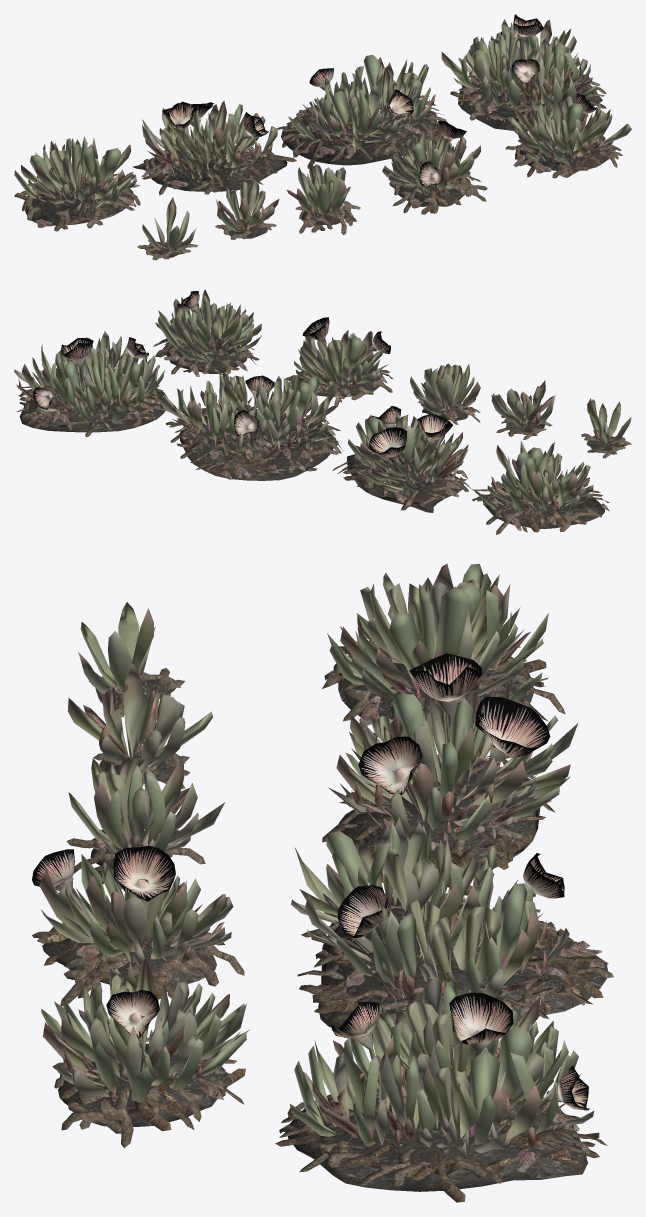
File: cheiridopsis_succulent.glb
3 renders of one model, top to bottom at view 1: azimuth 30°, elevation 25°; view 2: azimuth 150°, elevation 25°; view 3: azimuth 270°, elevation 25°, orthographic. The views are drawn at different scales.
Parts seen in each view (by area): view 1: cheiridopsis_succulent_h_LOD0, cheiridopsis_succulent_i_LOD0, cheiridopsis_succulent_g_LOD0, cheiridopsis_succulent_f_LOD0, cheiridopsis_succulent_e_LOD0, cheiridopsis_succulent_d_LOD0, cheiridopsis_succulent_c_LOD0, cheiridopsis_succulent_b_LOD0, cheiridopsis_succulent_a_LOD0; view 2: cheiridopsis_succulent_h_LOD0, cheiridopsis_succulent_i_LOD0, cheiridopsis_succulent_g_LOD0, cheiridopsis_succulent_f_LOD0, cheiridopsis_succulent_e_LOD0, cheiridopsis_succulent_d_LOD0, cheiridopsis_succulent_c_LOD0, cheiridopsis_succulent_b_LOD0, cheiridopsis_succulent_a_LOD0; view 3: cheiridopsis_succulent_i_LOD0, cheiridopsis_succulent_h_LOD0, cheiridopsis_succulent_g_LOD0, cheiridopsis_succulent_e_LOD0, cheiridopsis_succulent_d_LOD0, cheiridopsis_succulent_f_LOD0, cheiridopsis_succulent_c_LOD0, cheiridopsis_succulent_b_LOD0, cheiridopsis_succulent_a_LOD0.
Boxes of the visible parts, x1,y1,x2,y2 form: cheiridopsis_succulent_h_LOD0: (277, 54, 446, 168); cheiridopsis_succulent_i_LOD0: (441, 14, 606, 131); cheiridopsis_succulent_g_LOD0: (132, 101, 296, 195); cheiridopsis_succulent_f_LOD0: (14, 136, 140, 231); cheiridopsis_succulent_e_LOD0: (505, 94, 631, 178); cheiridopsis_succulent_d_LOD0: (382, 120, 487, 214); cheiridopsis_succulent_c_LOD0: (287, 163, 360, 234); cheiridopsis_succulent_b_LOD0: (215, 180, 279, 240); cheiridopsis_succulent_a_LOD0: (137, 197, 197, 260); cheiridopsis_succulent_h_LOD0: (159, 372, 342, 480); cheiridopsis_succulent_i_LOD0: (14, 331, 170, 437); cheiridopsis_succulent_g_LOD0: (332, 406, 473, 512); cheiridopsis_succulent_f_LOD0: (472, 441, 609, 534); cheiridopsis_succulent_e_LOD0: (153, 289, 261, 376); cheiridopsis_succulent_d_LOD0: (284, 317, 393, 407); cheiridopsis_succulent_c_LOD0: (410, 363, 480, 424); cheiridopsis_succulent_b_LOD0: (491, 380, 555, 439); cheiridopsis_succulent_a_LOD0: (581, 398, 631, 458); cheiridopsis_succulent_i_LOD0: (275, 977, 607, 1202); cheiridopsis_succulent_h_LOD0: (291, 816, 613, 1032); cheiridopsis_succulent_g_LOD0: (322, 653, 577, 895); cheiridopsis_succulent_e_LOD0: (41, 958, 249, 1148); cheiridopsis_succulent_d_LOD0: (32, 841, 244, 1006); cheiridopsis_succulent_f_LOD0: (322, 563, 565, 737); cheiridopsis_succulent_c_LOD0: (66, 749, 224, 888); cheiridopsis_succulent_b_LOD0: (67, 663, 212, 788); cheiridopsis_succulent_a_LOD0: (78, 602, 184, 717).
Size of the model in its own units: 2.16 by 0.2708 by 0.9586.
2 materials, 2 textured.
